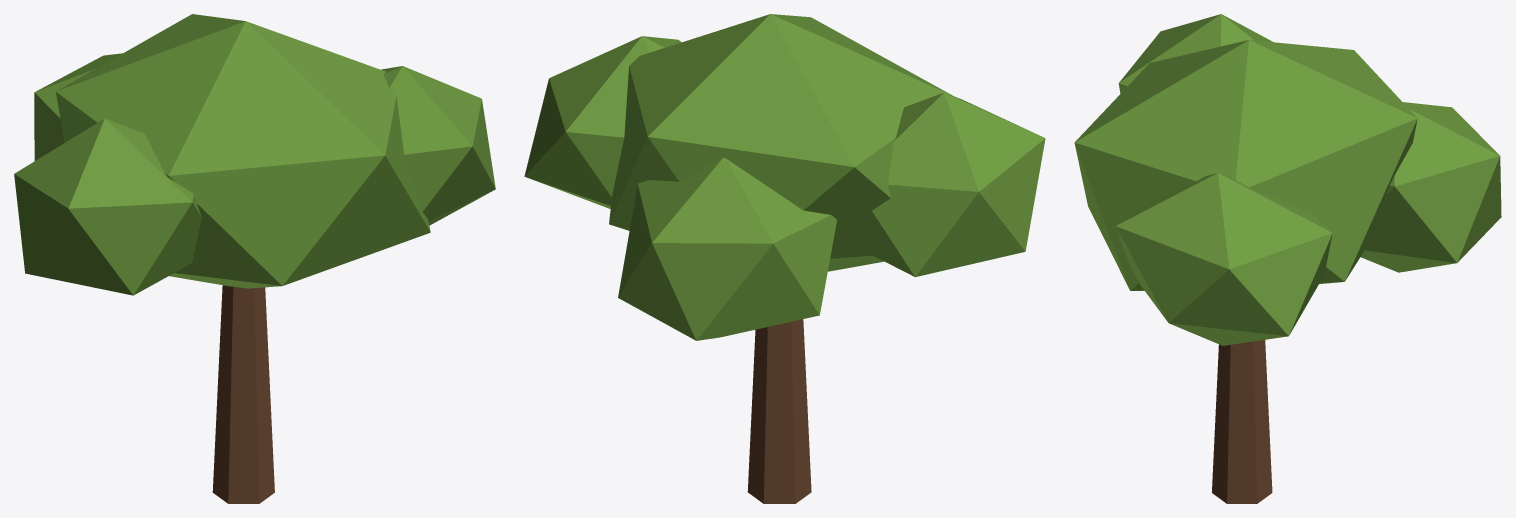
The model's file is Oak_B.glb.
3 views of the same model, side by side, from view 1: azimuth 30°, elevation 25°; view 2: azimuth 150°, elevation 25°; view 3: azimuth 270°, elevation 25° (orthographic). The views are drawn at different scales.
Parts seen in each view (by area): view 1: Oak_B; view 2: Oak_B; view 3: Oak_B.
Part boxes in pixels (x1,y1,x2,y2): Oak_B: (14,14,495,503); Oak_B: (524,14,1045,503); Oak_B: (1074,14,1501,503).
Bounding box in the file's own units: 6.16 × 5.97 × 5.07.
